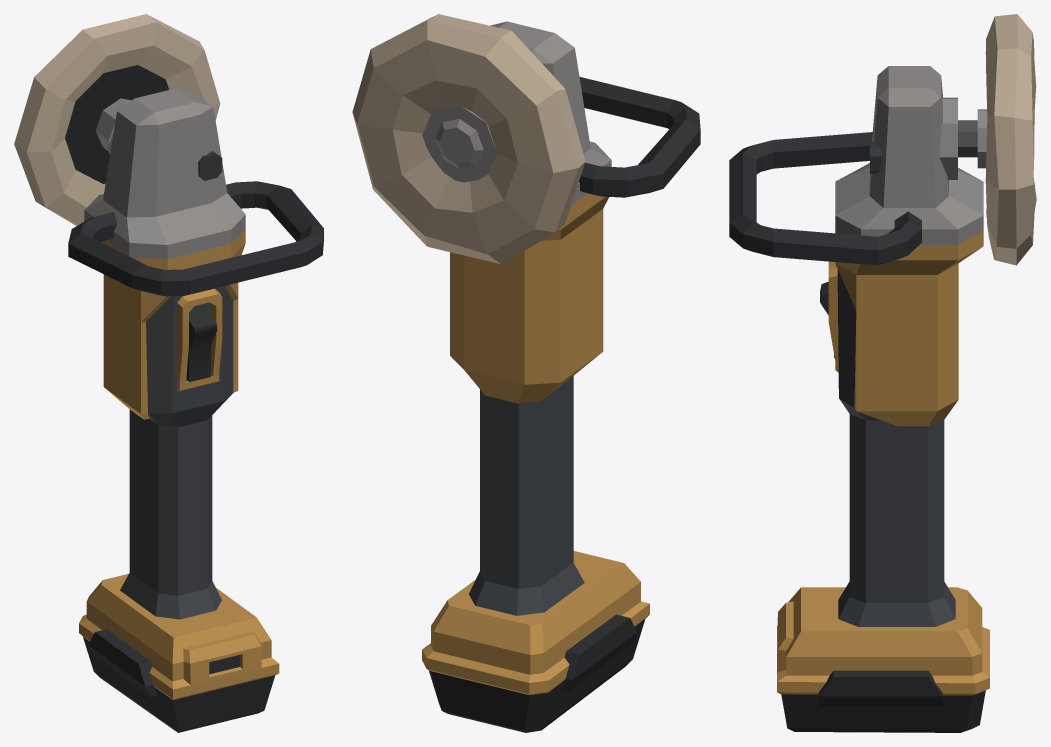
File: SM_Tool_Buffer_01.fbx
The picture shows the model from 3 angles, left to right: view 1: azimuth 30°, elevation 25°; view 2: azimuth 150°, elevation 25°; view 3: azimuth 270°, elevation 25°; orthographic projection. The views are drawn at different scales.
Parts seen in each view (by area): view 1: SM_Tool_Buffer_01, SM_Tool_Buffer_01_Disk, SM_Tool_Buffer_01_Battery, SM_Tool_Buffer_01_Trigger; view 2: SM_Tool_Buffer_01, SM_Tool_Buffer_01_Disk, SM_Tool_Buffer_01_Battery; view 3: SM_Tool_Buffer_01, SM_Tool_Buffer_01_Battery, SM_Tool_Buffer_01_Disk.
Part boxes in pixels (<box>): SM_Tool_Buffer_01: <box>68,88,323,681</box>; SM_Tool_Buffer_01_Disk: <box>14,14,220,225</box>; SM_Tool_Buffer_01_Battery: <box>79,614,279,732</box>; SM_Tool_Buffer_01_Trigger: <box>187,312,217,382</box>; SM_Tool_Buffer_01: <box>422,21,700,674</box>; SM_Tool_Buffer_01_Disk: <box>352,14,585,264</box>; SM_Tool_Buffer_01_Battery: <box>422,601,649,732</box>; SM_Tool_Buffer_01: <box>729,66,987,675</box>; SM_Tool_Buffer_01_Battery: <box>777,601,989,732</box>; SM_Tool_Buffer_01_Disk: <box>985,14,1036,265</box>.
Size of the model in its own units: 22.69 by 60.88 by 24.97.
